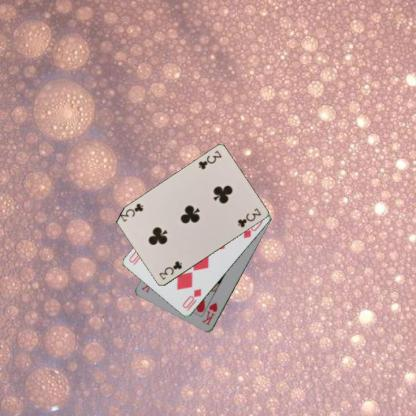10d: (180, 287, 202, 312)
3c: (157, 258, 183, 282), (196, 148, 223, 171)
Kh: (199, 300, 219, 326)
